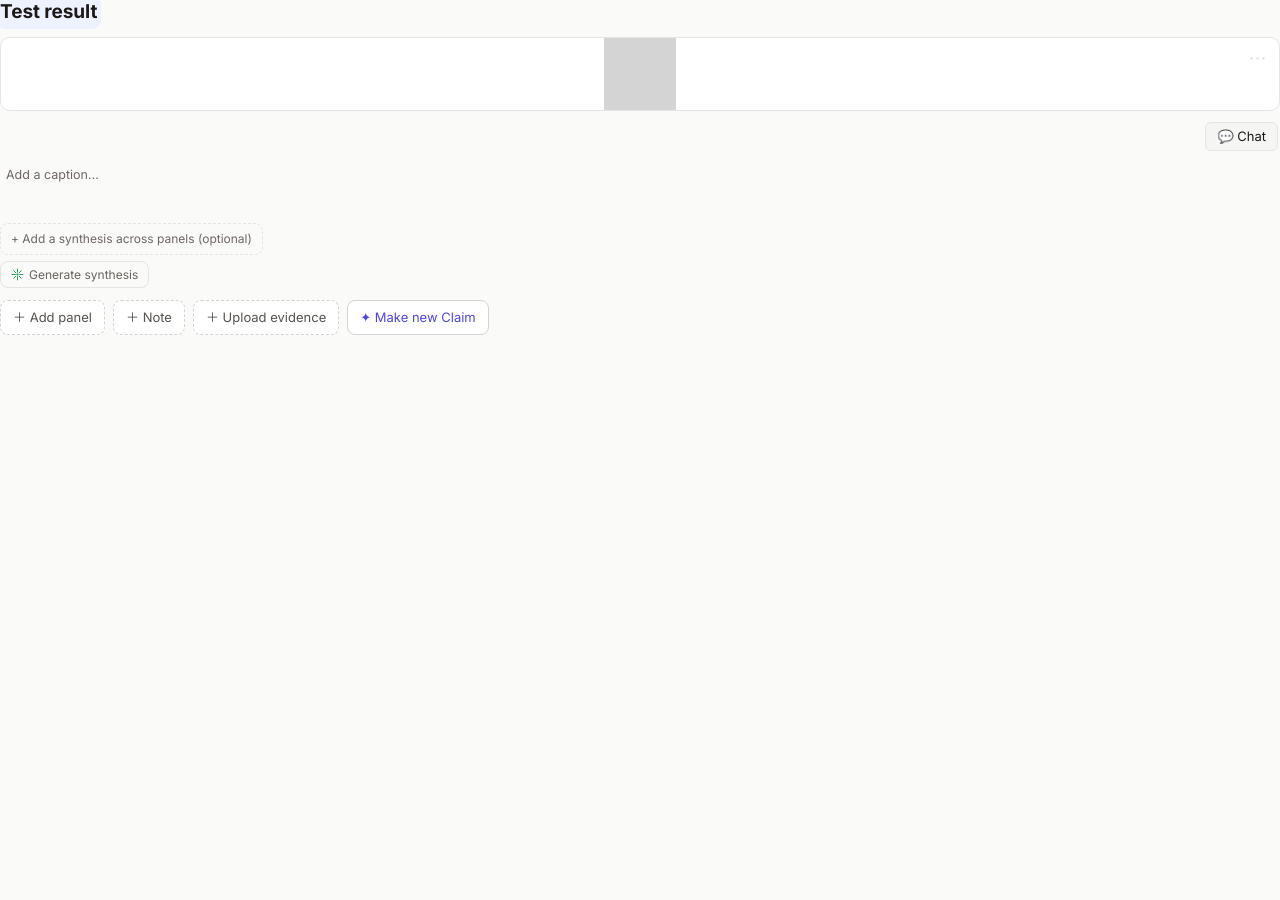
it: ResultView.MemberPanel (redesigned) › ⋯ menu → "Remove from Result" on the ONLY meaningful member → BLOCKING info dialog directing to rail ⋯ menu
Step 1. Click the button with class "rv-panel__more-btn" → (1258, 58), box [1244,45,1272,71]
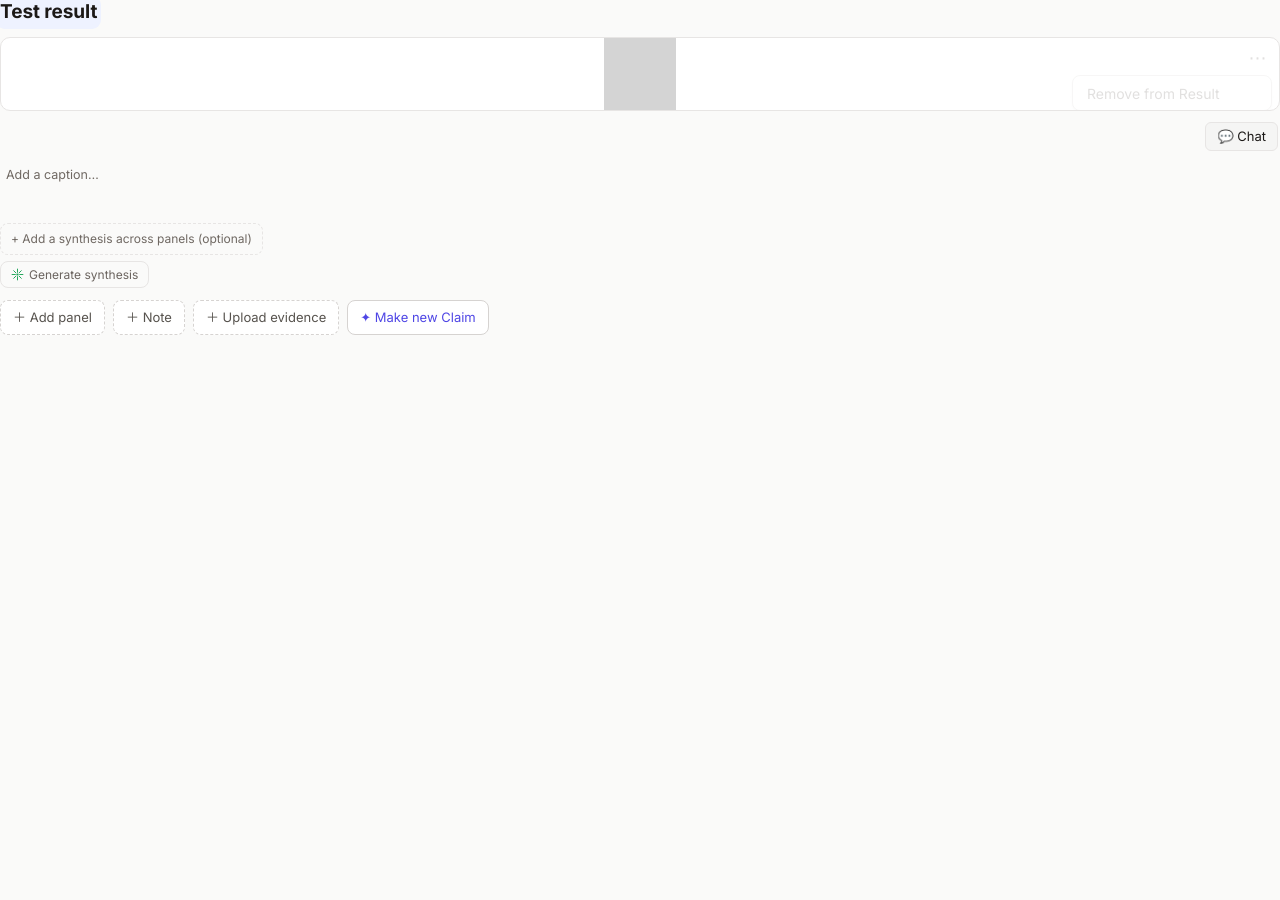
Step 2. Click the menu item "Remove from Result" → (1172, 93), box [1077,80,1267,106]
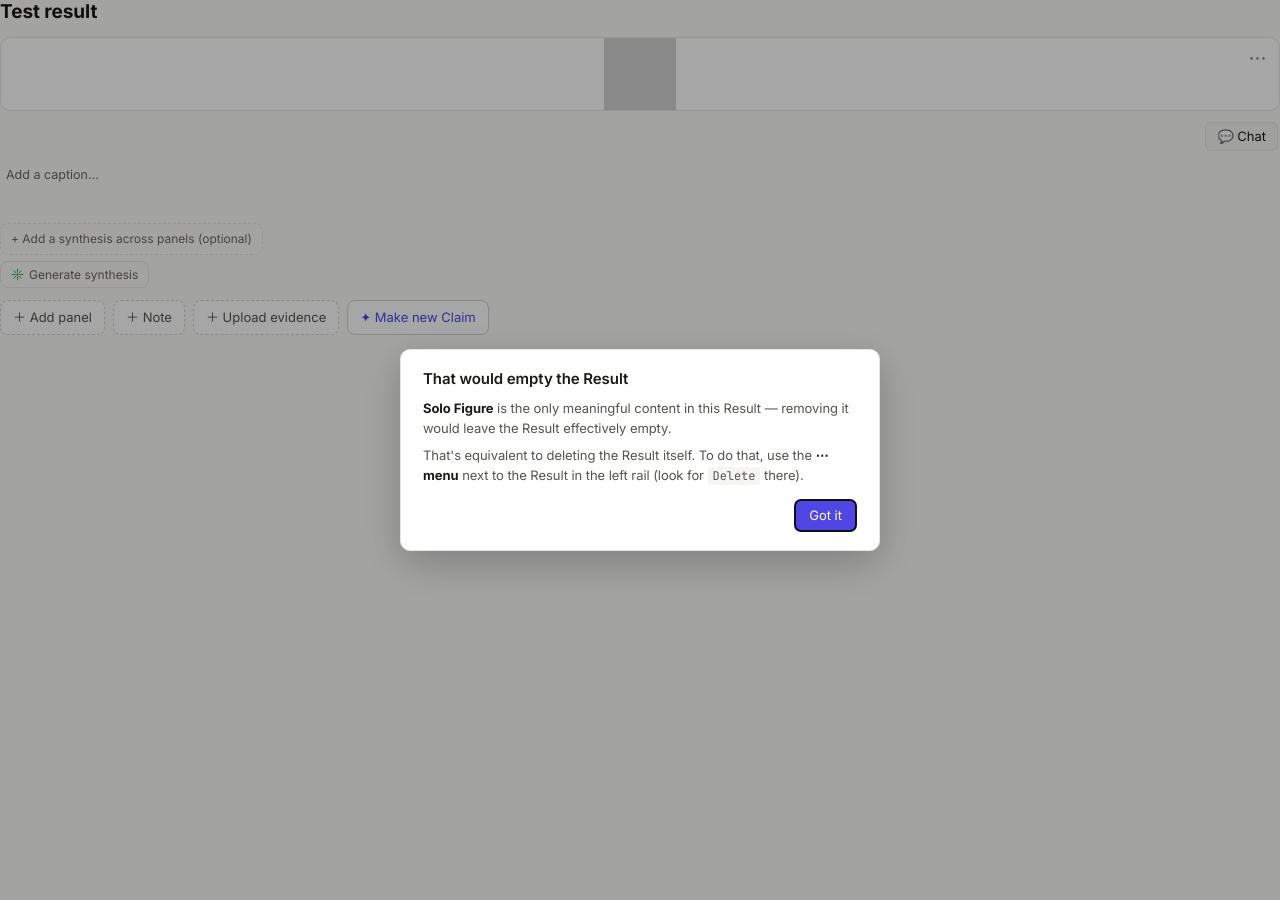
Expected: the dialog shows "⋯ menu", [423,448,828,483]
Expected: the button "Got it" is shown
Step 3. Click the button "Got it" → (826, 516), box [794,500,857,532]
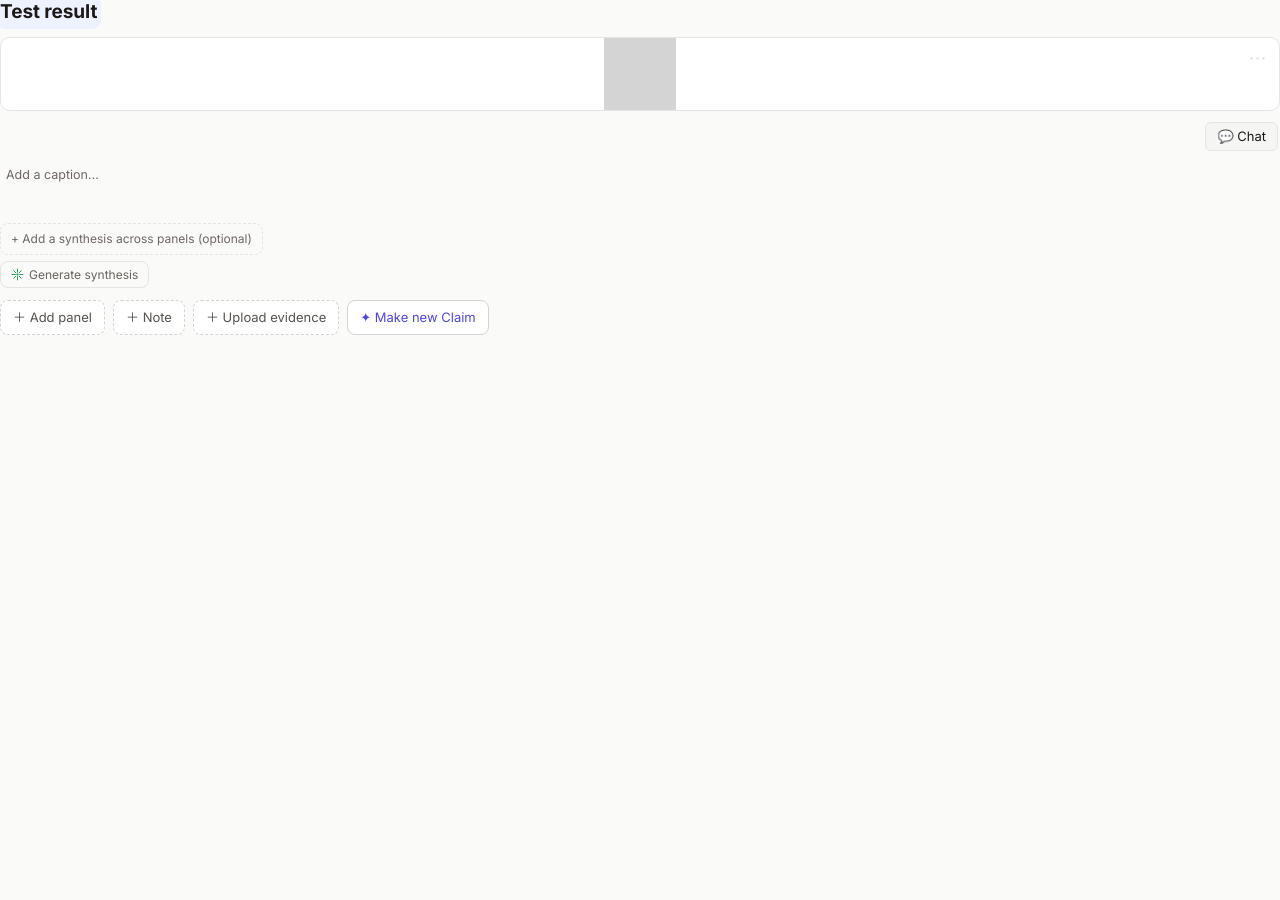
Expected: the dialog is gone
